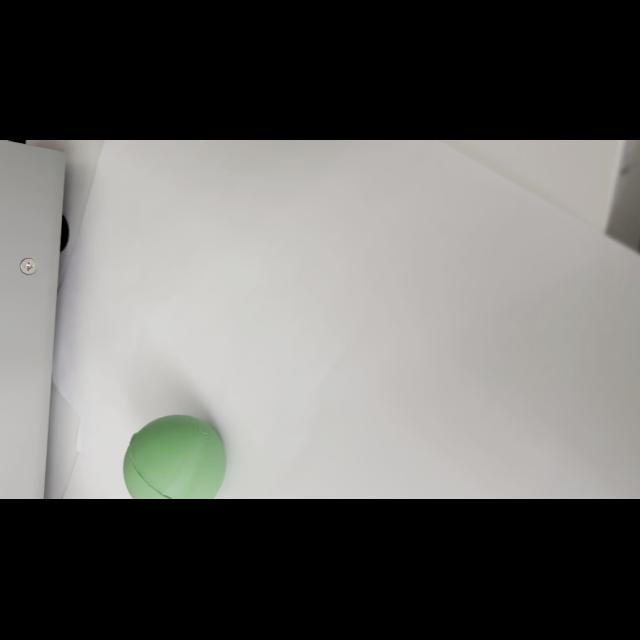objects: (119, 412, 229, 498)
